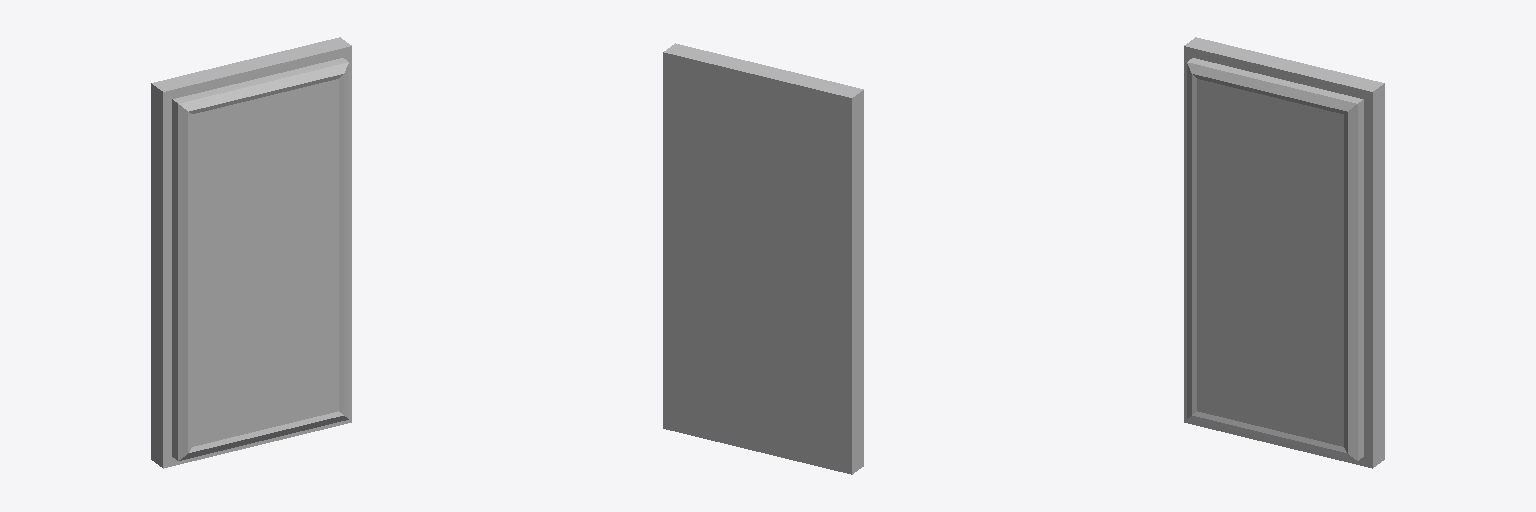
Rendered from door.obj.
3 views of the same model, side by side, from view 1: azimuth 30°, elevation 25°; view 2: azimuth 150°, elevation 25°; view 3: azimuth 330°, elevation 25° (orthographic).
Parts seen in each view (by area): view 1: Cube.005; view 2: Cube.005; view 3: Cube.005.
Part boxes in pixels (bbox=[...]): Cube.005: bbox=[151, 37, 351, 468]; Cube.005: bbox=[663, 43, 863, 474]; Cube.005: bbox=[1184, 37, 1384, 468].
Size of the model in its own units: 2 by 3.81 by 0.3777.